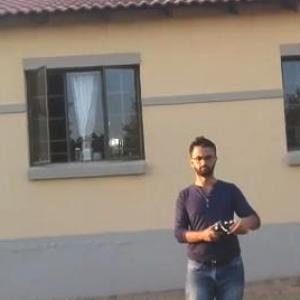follow: (167, 126, 266, 299)
